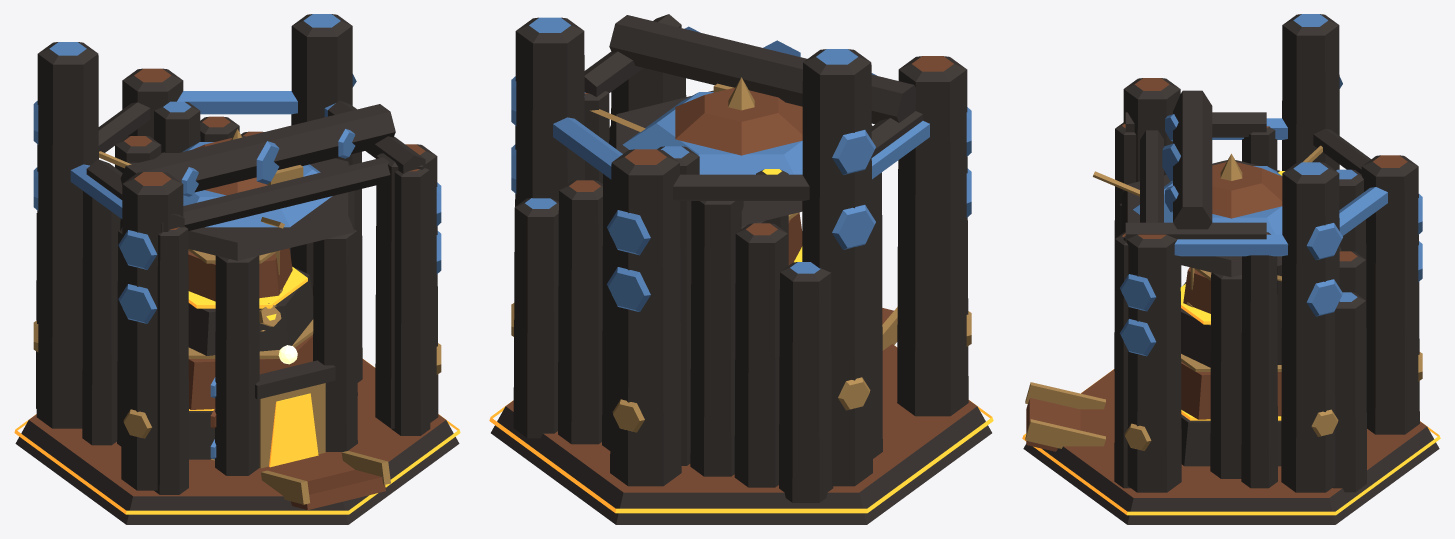
The model's file is meridian-buildings.glb.
3 renders of one model, left to right at view 1: azimuth 30°, elevation 25°; view 2: azimuth 150°, elevation 25°; view 3: azimuth 270°, elevation 25°, orthographic. The views are drawn at different scales.
Parts seen in each view (by area): view 1: lodehearth, foundry, coreVault, kiln; view 2: lodehearth, foundry, coreVault, kiln; view 3: lodehearth, foundry, coreVault, kiln.
Boxes of the visible parts, left/top/right/bottom form: lodehearth: left=14, top=14, right=460, bottom=524; foundry: left=36, top=100, right=430, bottom=494; coreVault: left=117, top=129, right=357, bottom=475; kiln: left=188, top=248, right=335, bottom=468; lodehearth: left=489, top=17, right=993, bottom=524; foundry: left=513, top=14, right=922, bottom=502; coreVault: left=609, top=77, right=872, bottom=229; kiln: left=756, top=169, right=802, bottom=265; lodehearth: left=1022, top=14, right=1440, bottom=524; foundry: left=1114, top=90, right=1366, bottom=492; coreVault: left=1119, top=153, right=1341, bottom=478; kiln: left=1180, top=171, right=1284, bottom=466.
Size of the model in its own units: 5.14 by 5.79 by 5.93.
